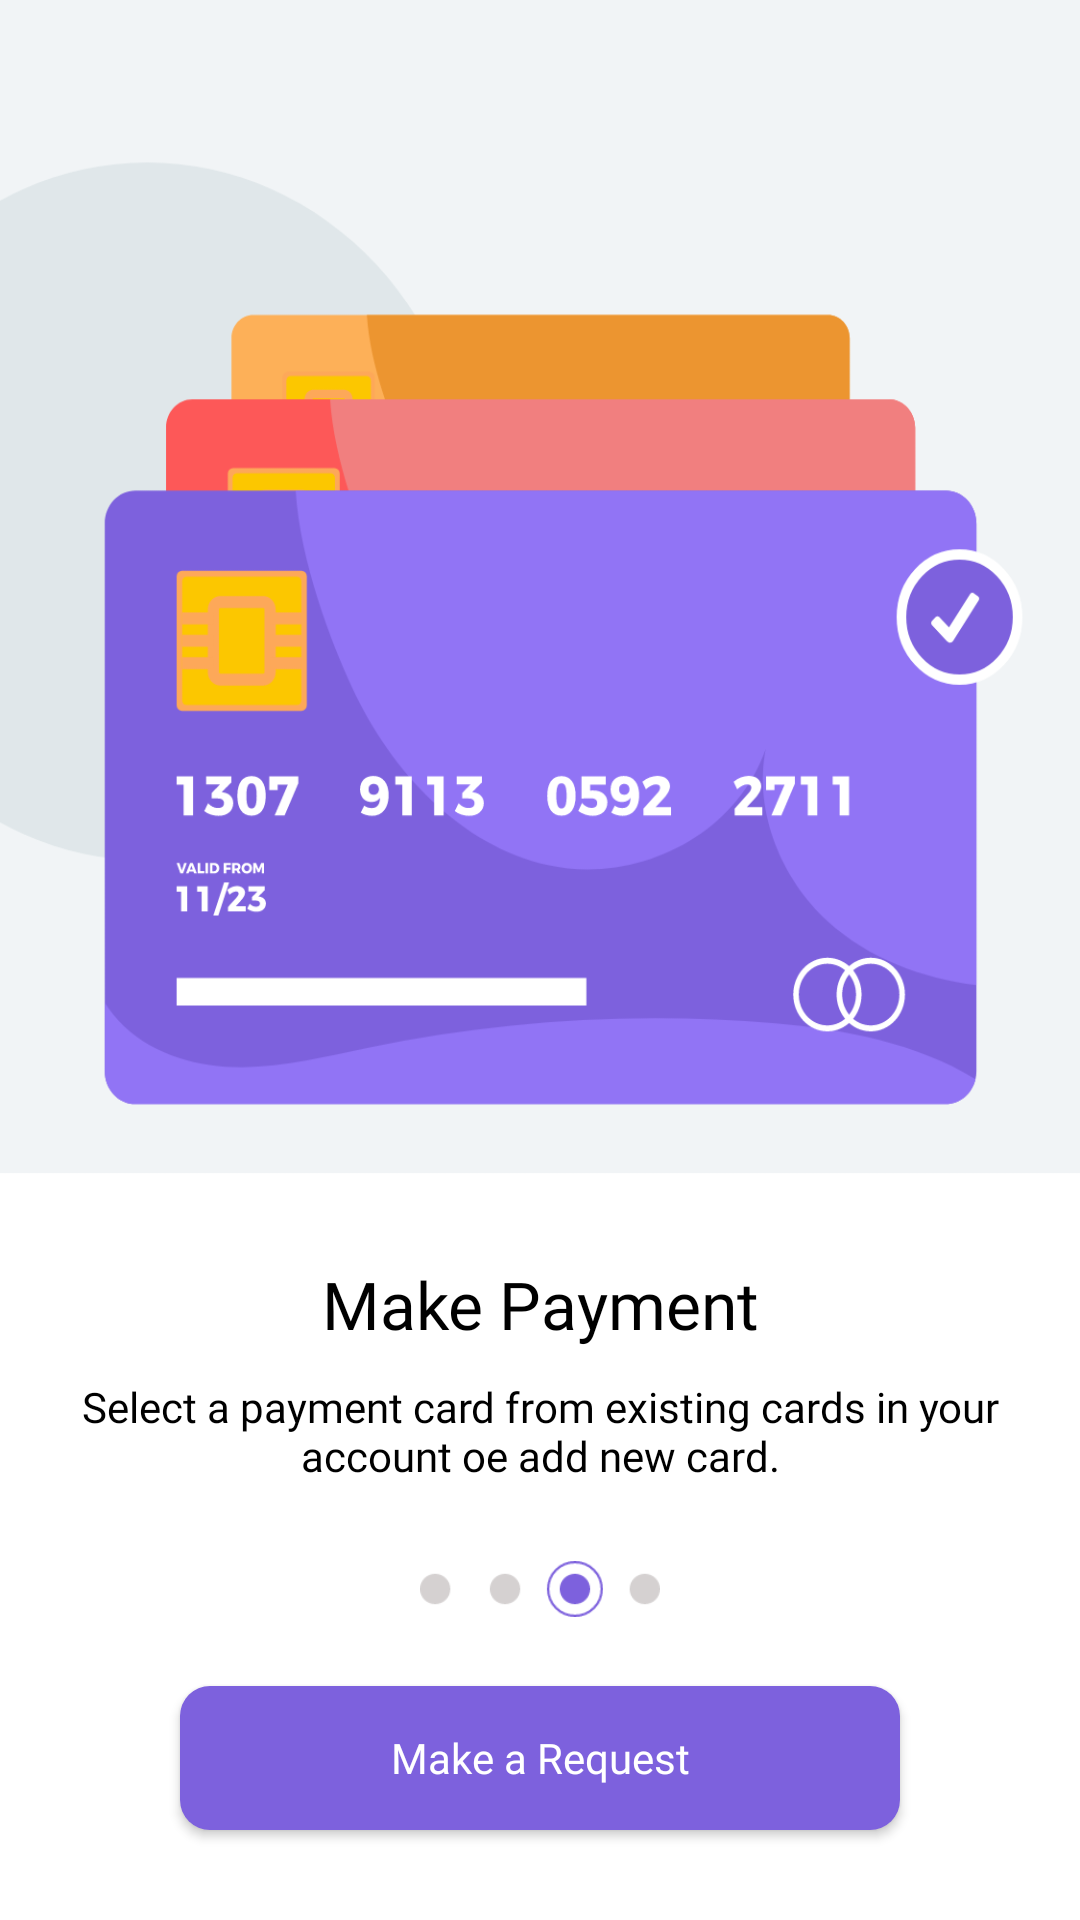

Where icons sit on this 1080w x 1920h app screen, as bbox=(x1, y1, x2, y2):
dot: bbox=(420, 1561, 660, 1617)
